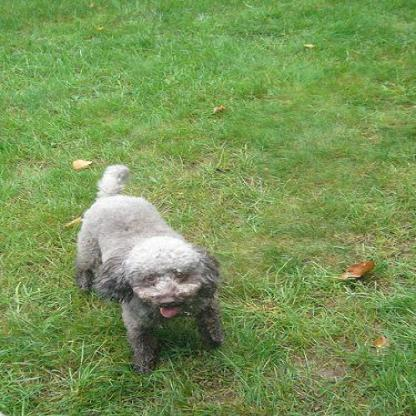miniature_poodle: (68, 156, 227, 378)
